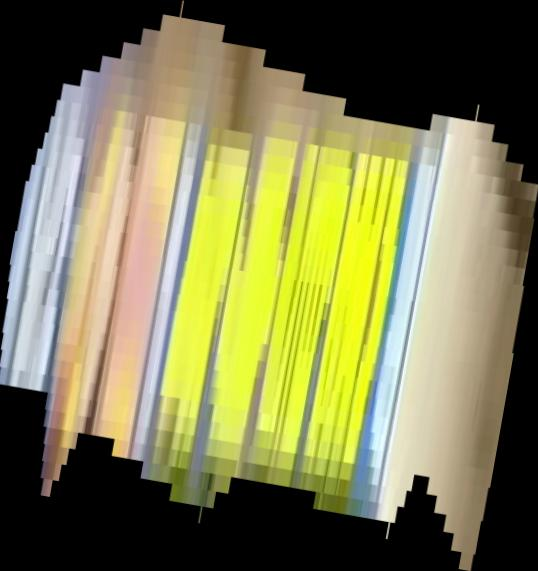flat: (1, 1, 538, 571)
